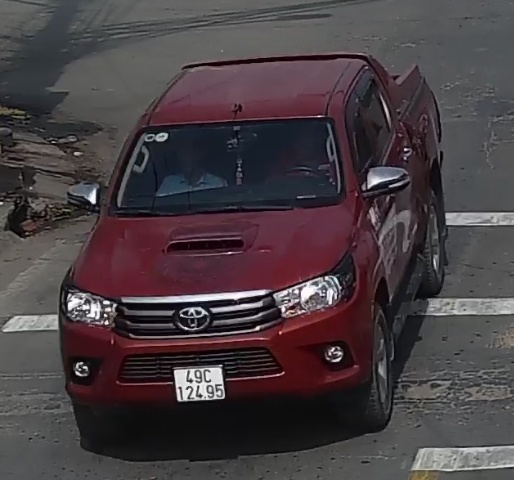vehicle plate: (168, 362, 229, 404)
